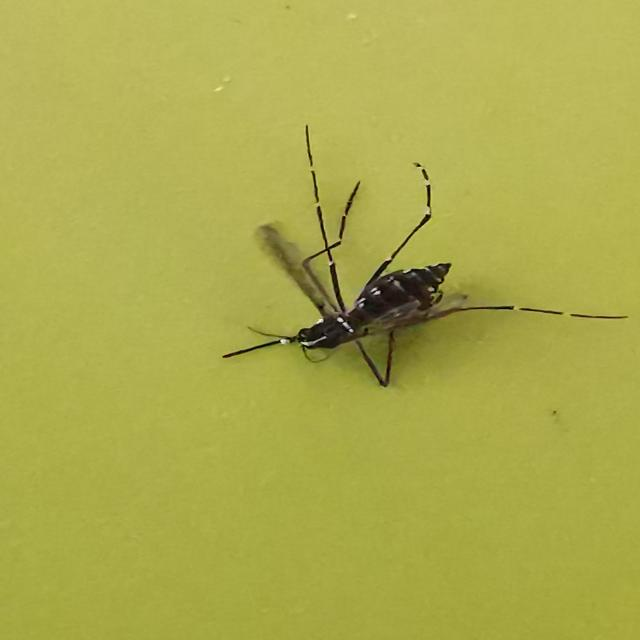albopictus: (230, 120, 600, 394)
